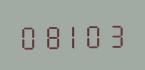eight: (40, 20, 61, 50)
one: (62, 20, 83, 49)
three: (106, 19, 127, 49)
zero: (18, 20, 39, 50), (84, 19, 105, 49)
